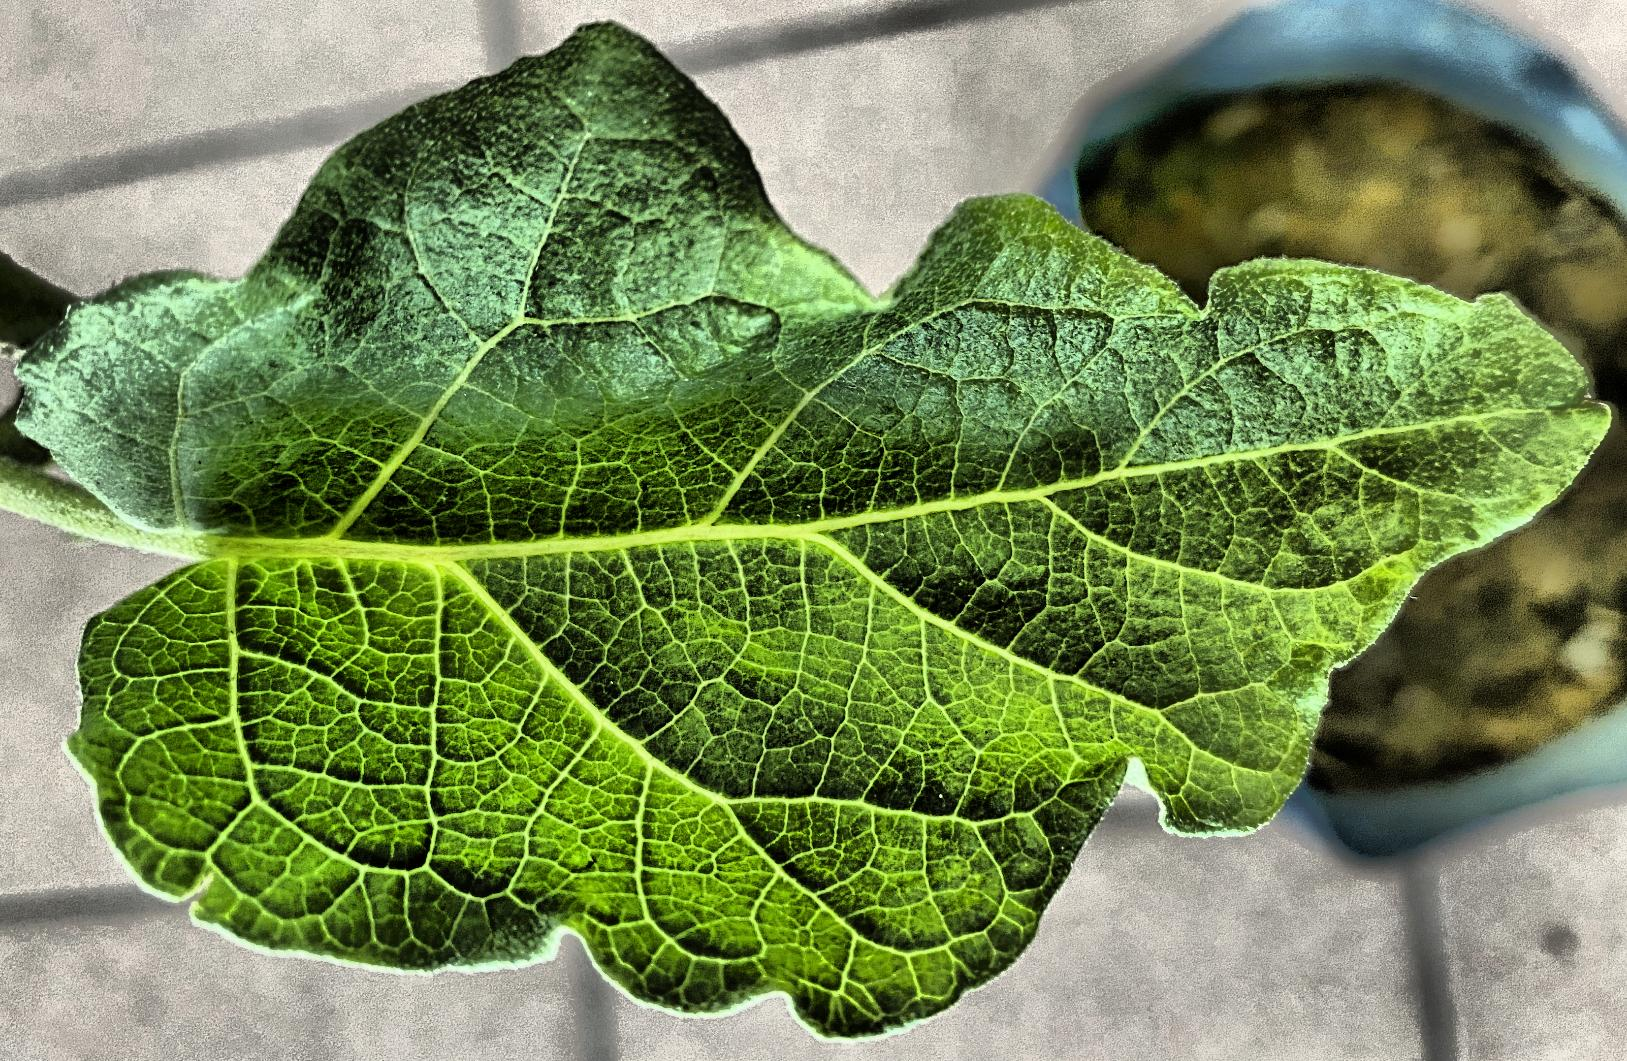HEALTHY: (1, 1, 1627, 1061)
